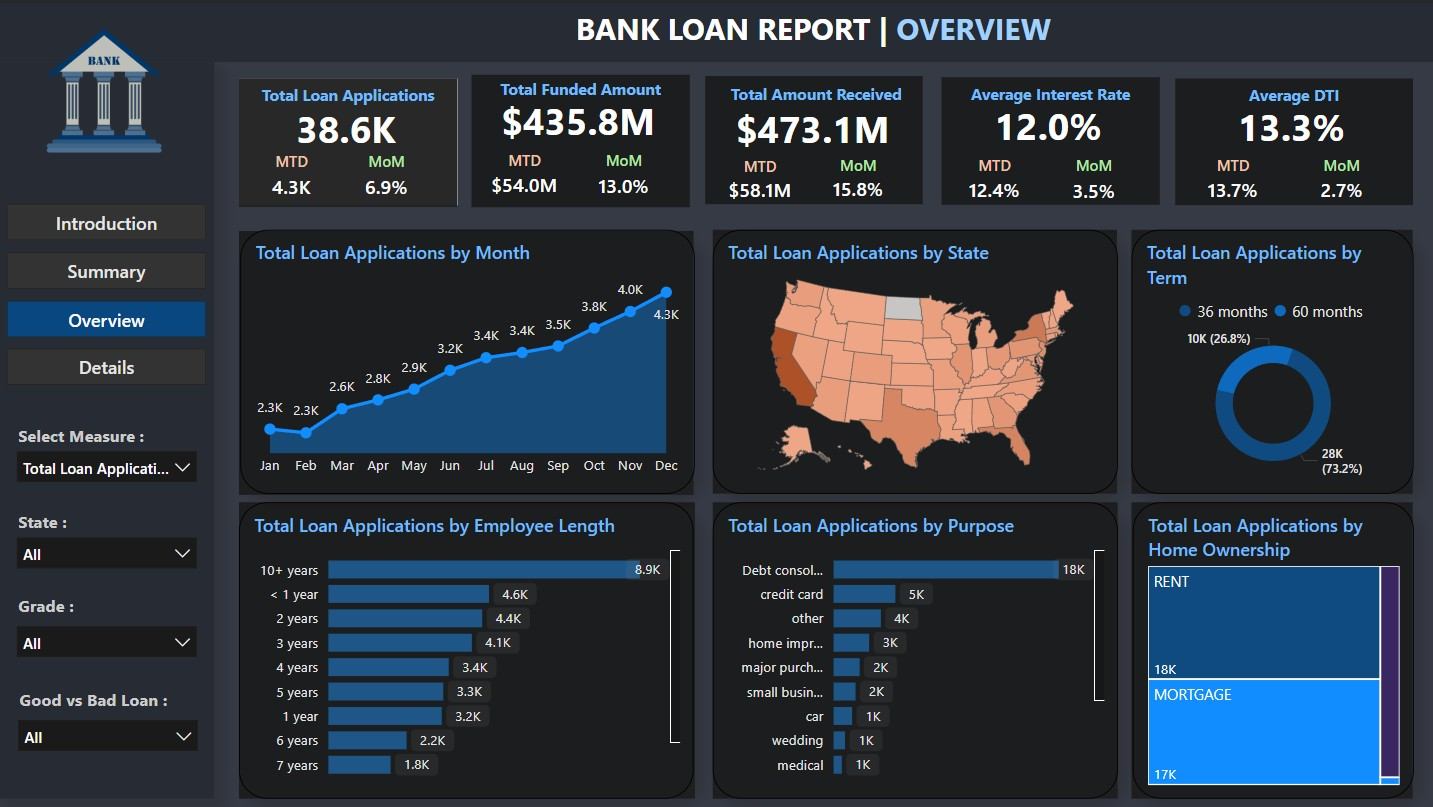

The dashboard page shown, as its layout file describes it:
{"tool":"powerbi","page":{"name":"Overview","canvas":[1280,720],"ordinal":2},"visuals":[{"type":"shape","box":[420.9,66,194.5,118],"z":0,"group":"g2"},{"type":"shape","box":[629.2,66.4,193.8,114.2],"z":0,"group":"g3"},{"type":"shape","box":[839.7,67.5,194.5,114],"z":0,"group":"g4"},{"type":"shape","box":[214.3,68.6,194.3,114.3],"z":0,"group":"g1"},{"type":"shape","box":[1047.5,69,211.7,112.9],"z":0,"group":"g5"},{"type":"shape","box":[214.3,204.3,405,235],"z":0},{"type":"shape","box":[0,0,1280.2,54.7],"z":1000},{"type":"card","fields":{"Values":["table_measures.total_funded_amt"]},"box":[432.7,78.4,165.9,58.4],"z":1000,"group":"g2"},{"type":"card","fields":{"Values":["table_measures.avg_interest_rate"]},"box":[851.5,82.1,165.9,58.4],"z":1000,"group":"g4"},{"type":"card","fields":{"Values":["table_measures.total_loan_appl"]},"box":[247.2,83.2,124.3,61.3],"z":1000,"group":"g1"},{"type":"card","fields":{"Values":["table_measures.avg_DTI"]},"box":[1060.3,83.4,180.6,57.8],"z":1000,"group":"g5"},{"type":"card","fields":{"Values":["table_measures.total_received_amt"]},"box":[643.2,85.3,163.1,55.8],"z":1000,"group":"g3"},{"type":"shape","box":[0,54.7,191.9,655.8],"z":2000},{"type":"textbox","box":[420.9,63.8,194.5,38.9],"z":2000,"group":"g2"},{"type":"textbox","box":[632.2,67,191,41.6],"z":2000,"group":"g3"},{"type":"textbox","box":[839.7,67.5,194.5,38.9],"z":2000,"group":"g4"},{"type":"textbox","box":[214.3,68.6,194.3,39],"z":2000,"group":"g1"},{"type":"textbox","box":[1047.5,69,211.7,38.5],"z":2000,"group":"g5"},{"type":"card","title":"MTD","fields":{"Values":["table_measures.MTD_funded_amt"]},"box":[432.7,132.6,70.1,48.6],"z":3000,"group":"g2"},{"type":"card","title":"MTD","fields":{"Values":["table_measures.MTD_loan_appl"]},"box":[235.7,132.7,51.4,50.2],"z":3000,"group":"g1"},{"type":"card","title":"MTD","fields":{"Values":["table_measures.MTD_interest_rate"]},"box":[851.5,136.3,70.1,48.6],"z":3000,"group":"g4"},{"type":"card","title":"MTD","fields":{"Values":["table_measures.MTD_received_amt"]},"box":[643.2,137.1,68.9,46.5],"z":3000,"group":"g3"},{"type":"card","title":"MTD","fields":{"Values":["table_measures.MTD_avg_DTI"]},"box":[1060.3,137.1,76.3,48.2],"z":3000,"group":"g5"},{"type":"textbox","box":[12.4,448.7,119.7,38.5],"z":3000},{"type":"textbox","box":[509.2,1.4,447.3,49.5],"z":4000},{"type":"card","title":"MoM","fields":{"Values":["table_measures.MOM_funded_amt"]},"box":[527.8,132.4,57.8,49.7],"z":4000,"group":"g2"},{"type":"card","title":"MoM","fields":{"Values":["table_measures.MOM_loan_appl"]},"box":[320,132.7,51.4,50.2],"z":4000,"group":"g1"},{"type":"card","title":"MoM","fields":{"Values":["table_measures.MOM_interest_rate"]},"box":[946.6,136.1,57.8,49.7],"z":4000,"group":"g4"},{"type":"card","title":"MoM","fields":{"Values":["table_measures.MOM_received_amt"]},"box":[736.7,136.9,56.8,47.5],"z":4000,"group":"g3"},{"type":"card","title":"MoM","fields":{"Values":["table_measures.MOM_avg_DTI"]},"box":[1163.9,136.9,62.9,49.2],"z":4000,"group":"g5"},{"type":"group","id":"g1","title":"Group 1","box":[214.3,68.6,194.3,114.3],"z":5000},{"type":"group","id":"g2","title":"Group 1","box":[420.9,63.8,194.5,120.2],"z":6000},{"type":"group","id":"g3","title":"Group 1","box":[629.2,66.4,194,118],"z":7000},{"type":"group","id":"g4","title":"Group 1","box":[839.7,67.5,194.5,118.2],"z":8000},{"type":"group","id":"g5","title":"Group 1","box":[1047.5,69,211.5,116.9],"z":9000},{"type":"shape","box":[635.9,203.7,360,235],"z":10000},{"type":"slicer","fields":{"Values":["financial_loan.address_state"]},"box":[5.5,468,180.3,50.9],"z":11000},{"type":"slicer","fields":{"Values":["financial_loan.grade"]},"box":[5.5,546.4,180.3,50.9],"z":12000},{"type":"textbox","box":[12.4,523,119.7,38.5],"z":13000},{"type":"slicer","fields":{"Values":["financial_loan.Good vs Band Loan"]},"box":[6.9,630.4,180.3,50.9],"z":14000},{"type":"textbox","box":[13.8,607,163.8,38.5],"z":15000},{"type":"areaChart","fields":{"Y":["table_measures.total_loan_appl"],"Category":["Date Table.Month"]},"box":[214.7,203.7,404.6,235.4],"z":16000},{"type":"slicer","fields":{"Values":["Select Measure.Select Measure"]},"box":[5.5,390.9,180.3,55.1],"z":17000},{"type":"shape","box":[213.3,445.9,406,264.3],"z":18000},{"type":"shapeMap","fields":{"Value":["table_measures.total_loan_appl"],"Category":["financial_loan.address_state"]},"box":[635.9,203.7,360.6,235.4],"z":19000},{"type":"shape","box":[1008.9,203.7,250.5,235.4],"z":20000},{"type":"donutChart","fields":{"Y":["table_measures.total_loan_appl"],"Category":["financial_loan.term"]},"box":[1008.1,203.5,251.2,234.9],"z":21000},{"type":"barChart","fields":{"Y":["table_measures.total_loan_appl"],"Category":["financial_loan.emp_length"]},"box":[213.3,445.9,404.6,264.3],"z":22000},{"type":"textbox","box":[12.4,371.6,139,38.5],"z":23000},{"type":"shape","box":[635.9,445.9,360.6,264.3],"z":24000},{"type":"barChart","fields":{"Y":["table_measures.total_loan_appl"],"Category":["financial_loan.purpose"]},"box":[635.9,445.9,360.6,264.3],"z":25000},{"type":"shape","box":[1008.9,445.9,250.5,264.3],"z":26000},{"type":"treemap","fields":{"Values":["table_measures.total_loan_appl"],"Group":["financial_loan.home_ownership"]},"box":[1009.3,446.5,250,264],"z":27000},{"type":"pageNavigator","box":[6.9,180.3,178.9,163.8],"z":28000},{"type":"image","box":[0,1.4,187.2,156.9],"z":29000}]}

Visuals, with their boxes in screenshot pixels (x1, y1, x2, y2), scaled from the page's 1280x720 canvas onto the 1433x807 screenshot:
shape: x1=471, y1=74, x2=689, y2=206
shape: x1=704, y1=74, x2=921, y2=202
shape: x1=940, y1=76, x2=1158, y2=203
shape: x1=240, y1=77, x2=457, y2=205
shape: x1=1173, y1=77, x2=1410, y2=204
shape: x1=240, y1=229, x2=693, y2=492
shape: x1=0, y1=0, x2=1432, y2=61
card - table_measures.total_funded_amt: x1=484, y1=88, x2=670, y2=153
card - table_measures.avg_interest_rate: x1=953, y1=92, x2=1139, y2=157
card - table_measures.total_loan_appl: x1=277, y1=93, x2=416, y2=162
card - table_measures.avg_DTI: x1=1187, y1=93, x2=1389, y2=158
card - table_measures.total_received_amt: x1=720, y1=96, x2=903, y2=158
shape: x1=0, y1=61, x2=215, y2=796
textbox: x1=471, y1=72, x2=689, y2=115
textbox: x1=708, y1=75, x2=922, y2=122
textbox: x1=940, y1=76, x2=1158, y2=119
textbox: x1=240, y1=77, x2=457, y2=121
textbox: x1=1173, y1=77, x2=1410, y2=120
"MTD" card: x1=484, y1=149, x2=563, y2=203
"MTD" card: x1=264, y1=149, x2=321, y2=205
"MTD" card: x1=953, y1=153, x2=1032, y2=207
"MTD" card: x1=720, y1=154, x2=797, y2=206
"MTD" card: x1=1187, y1=154, x2=1272, y2=208
textbox: x1=14, y1=503, x2=148, y2=546
textbox: x1=570, y1=2, x2=1071, y2=57
"MoM" card: x1=591, y1=148, x2=656, y2=204
"MoM" card: x1=358, y1=149, x2=416, y2=205
"MoM" card: x1=1060, y1=153, x2=1124, y2=208
"MoM" card: x1=825, y1=153, x2=888, y2=207
"MoM" card: x1=1303, y1=153, x2=1373, y2=209
"Group 1" group: x1=240, y1=77, x2=457, y2=205
"Group 1" group: x1=471, y1=72, x2=689, y2=206
"Group 1" group: x1=704, y1=74, x2=922, y2=207
"Group 1" group: x1=940, y1=76, x2=1158, y2=208
"Group 1" group: x1=1173, y1=77, x2=1409, y2=208
shape: x1=712, y1=228, x2=1115, y2=492
slicer - financial_loan.address_state: x1=6, y1=525, x2=208, y2=582
slicer - financial_loan.grade: x1=6, y1=612, x2=208, y2=669
textbox: x1=14, y1=586, x2=148, y2=629
slicer - financial_loan.Good vs Band Loan: x1=8, y1=707, x2=210, y2=764
textbox: x1=15, y1=680, x2=199, y2=723
areaChart - table_measures.total_loan_appl x Date Table.Month: x1=240, y1=228, x2=693, y2=492
slicer - Select Measure.Select Measure: x1=6, y1=438, x2=208, y2=500
shape: x1=239, y1=500, x2=693, y2=796
shapeMap - table_measures.total_loan_appl x financial_loan.address_state: x1=712, y1=228, x2=1116, y2=492
shape: x1=1129, y1=228, x2=1410, y2=492
donutChart - table_measures.total_loan_appl x financial_loan.term: x1=1129, y1=228, x2=1410, y2=491
barChart - table_measures.total_loan_appl x financial_loan.emp_length: x1=239, y1=500, x2=692, y2=796
textbox: x1=14, y1=417, x2=169, y2=460
shape: x1=712, y1=500, x2=1116, y2=796
barChart - table_measures.total_loan_appl x financial_loan.purpose: x1=712, y1=500, x2=1116, y2=796
shape: x1=1129, y1=500, x2=1410, y2=796
treemap - table_measures.total_loan_appl x financial_loan.home_ownership: x1=1130, y1=500, x2=1410, y2=796
pageNavigator: x1=8, y1=202, x2=208, y2=386
image: x1=0, y1=2, x2=210, y2=177
